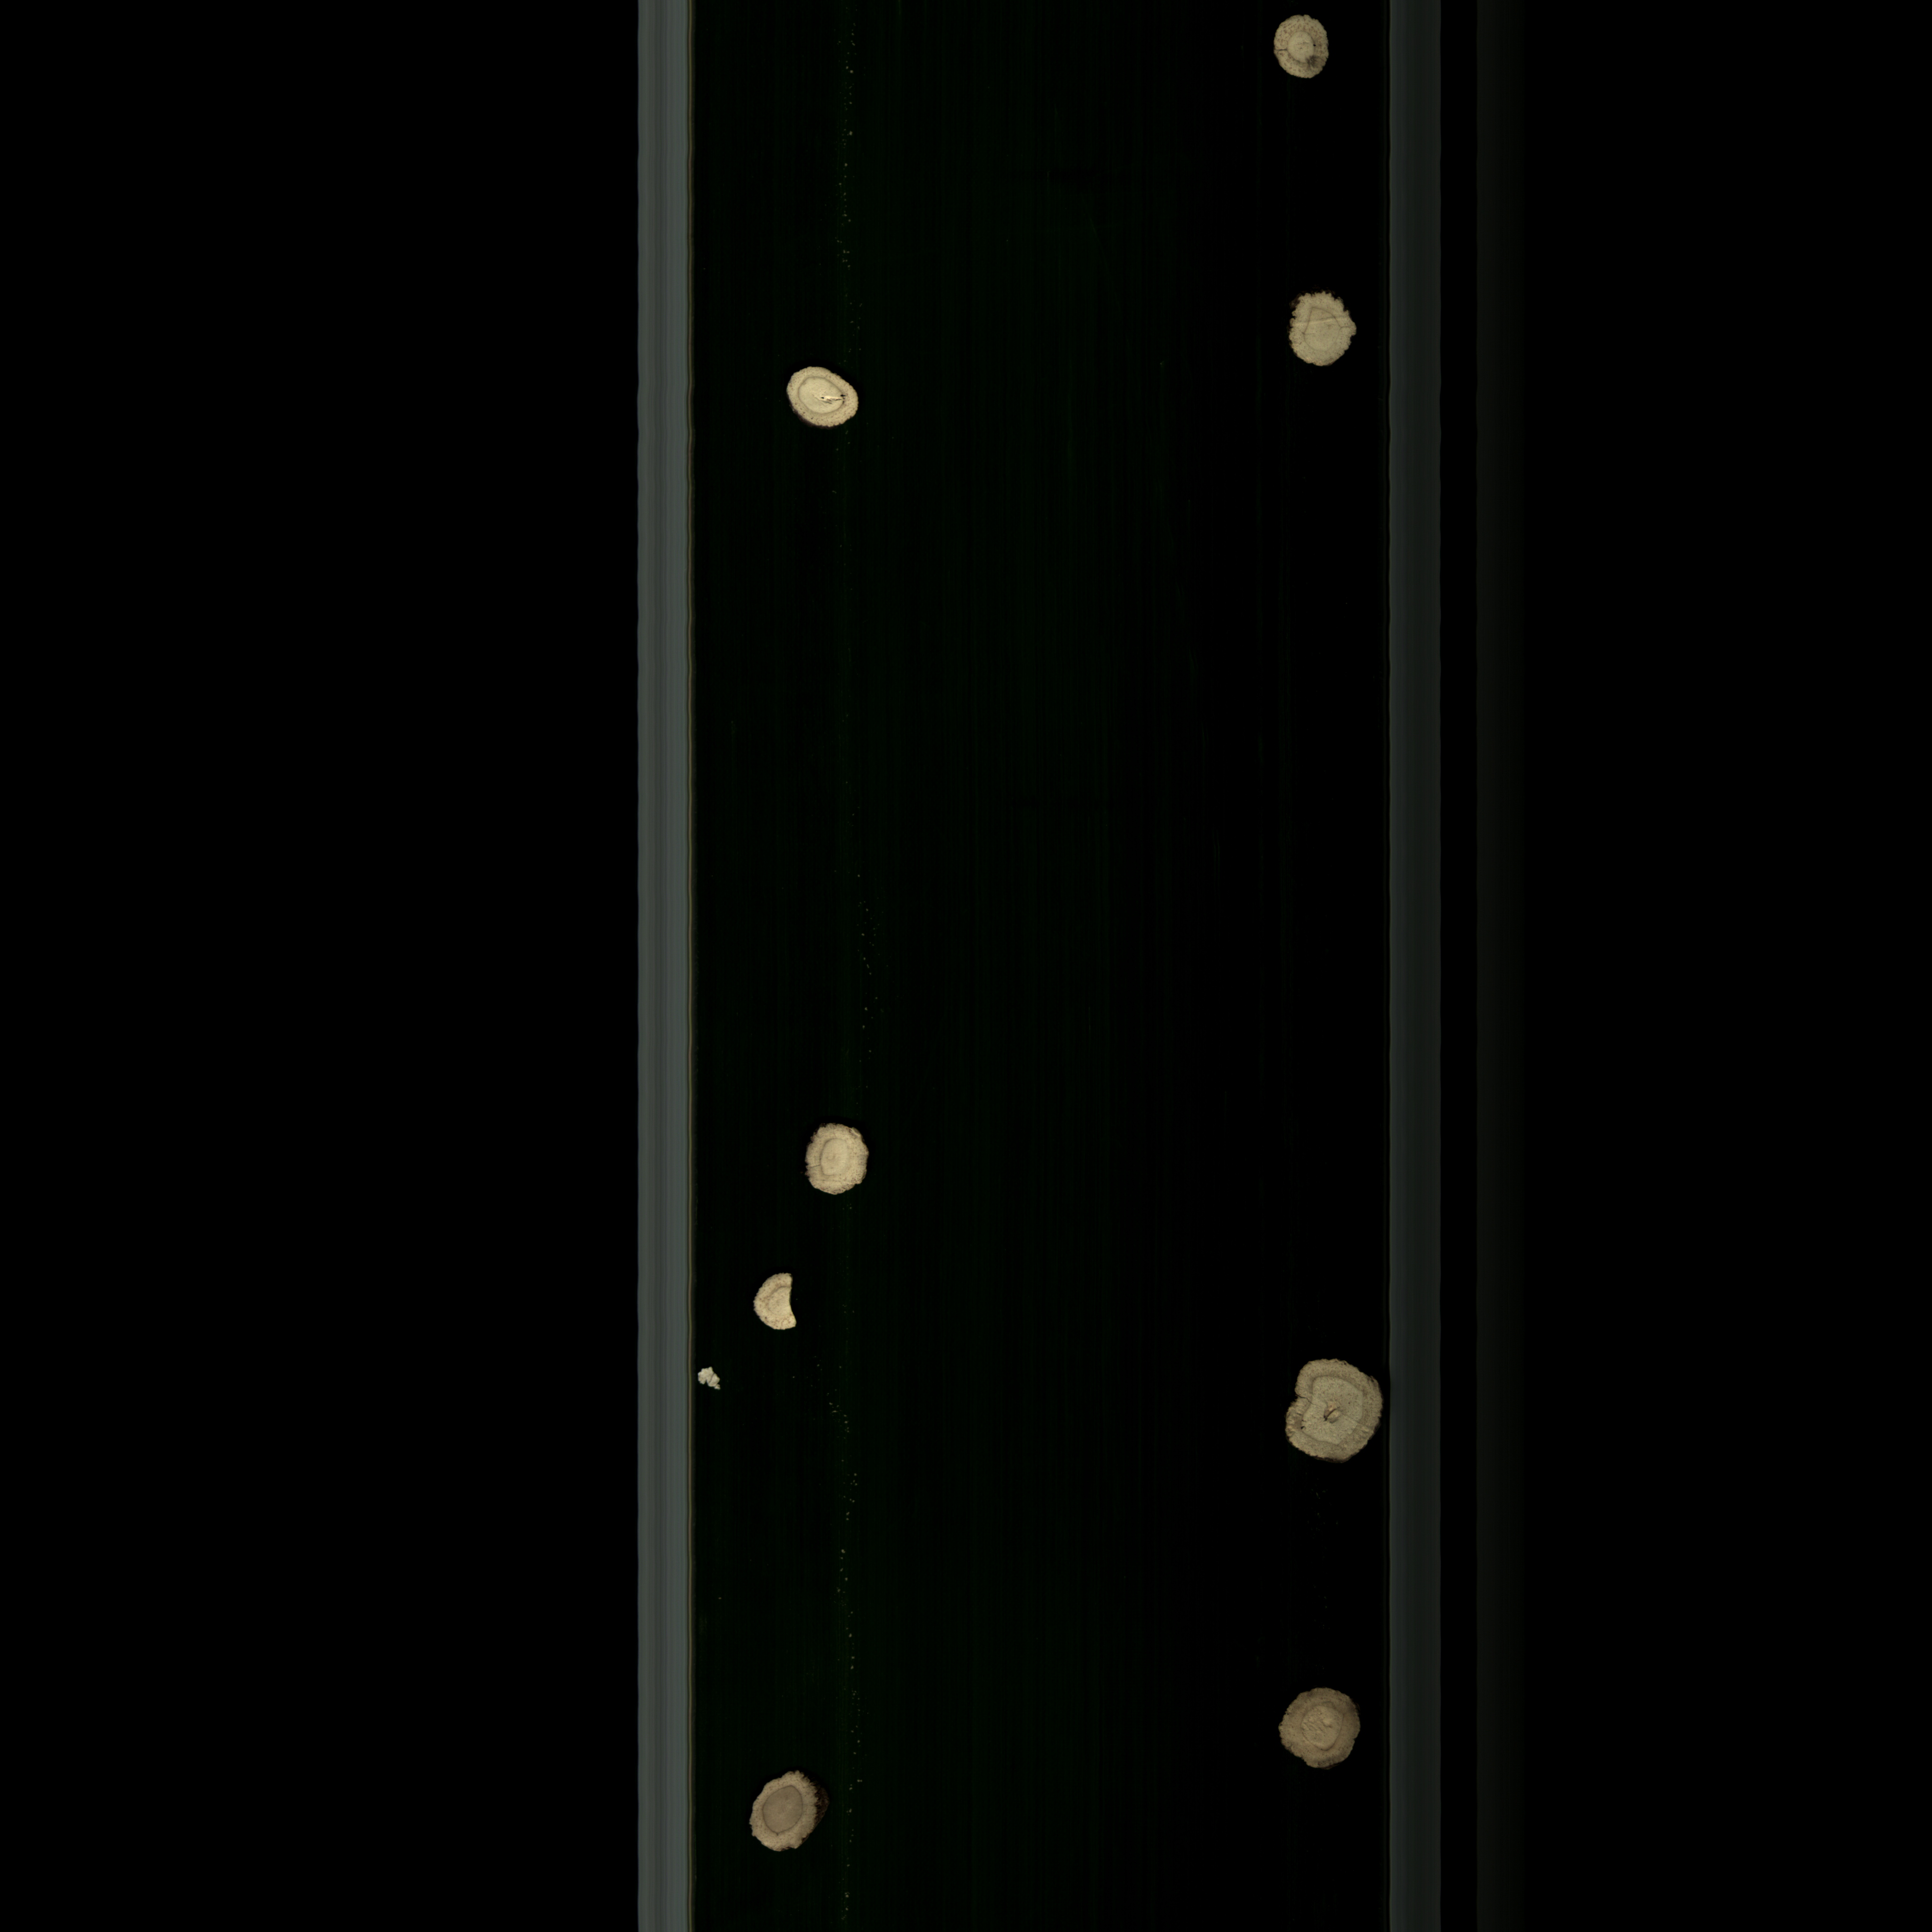debris: (748, 1267, 805, 1338)
distortion: (1281, 281, 1371, 377)
dreg: (695, 1362, 727, 1396)
hole: (768, 359, 878, 439), (1269, 11, 1336, 90)
moldy: (1281, 1345, 1391, 1474), (1270, 1679, 1366, 1780), (745, 1762, 830, 1858)
